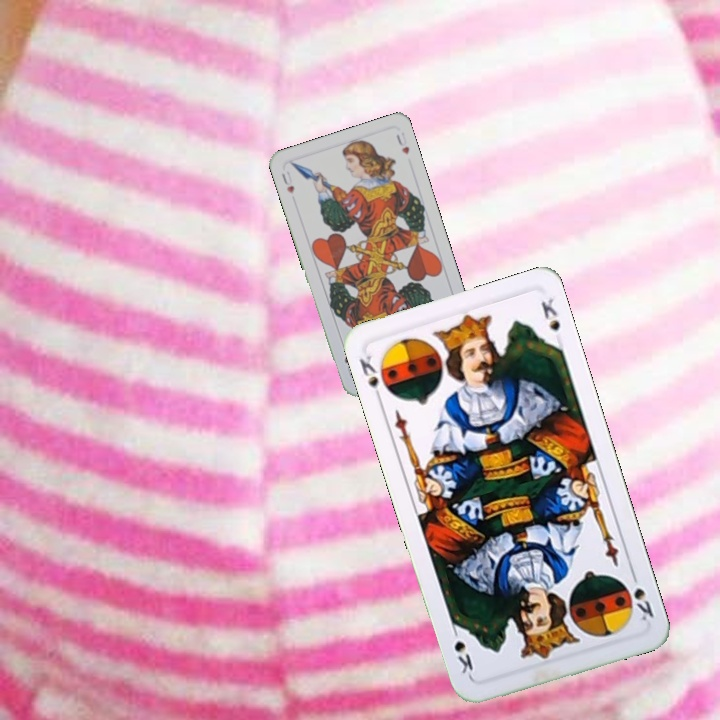HU: (278, 167, 297, 196)
SK: (627, 567, 656, 624), (355, 351, 385, 405)
